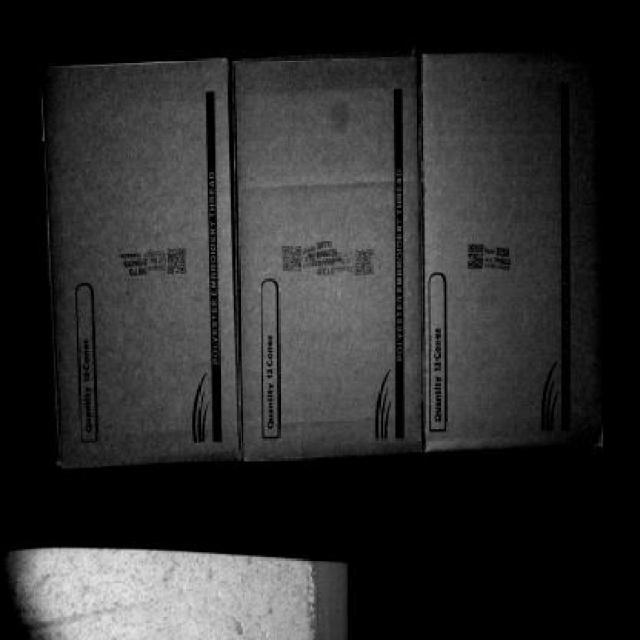box: (47, 70, 241, 458), (422, 49, 607, 451), (236, 60, 422, 446)
